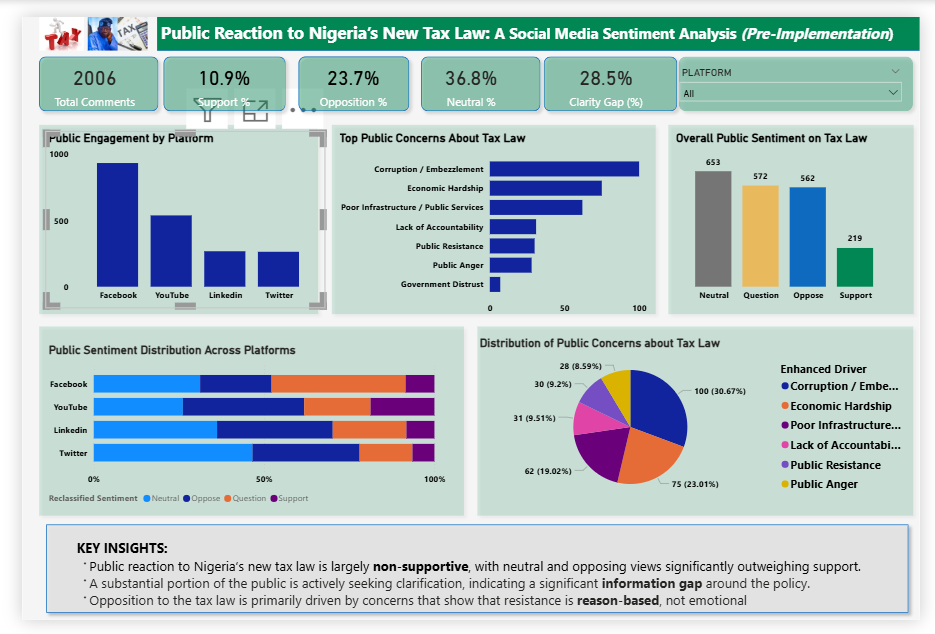

The page's visual inventory and layout, read from the dashboard file:
{"tool":"powerbi","page":{"name":"Page 1","canvas":[1280,720],"ordinal":0},"visuals":[{"type":"card","fields":{"Values":["Measures Table.Total Comments"]},"box":[224,0,160,96],"z":0},{"type":"card","fields":{"Values":["Measures Table.% Support"]},"box":[832,0,160,160],"z":1000},{"type":"card","fields":{"Values":["Measures Table.% Oppose"]},"box":[1008,0,160,160],"z":2000},{"type":"card","fields":{"Values":["Measures Table.% Neutral("]},"box":[400,0,160,128],"z":3000},{"type":"card","fields":{"Values":["Measures Table.% Question"]},"box":[560,0,160,160],"z":4000},{"type":"clusteredColumnChart","title":"Public Engagement by Platform","fields":{"Category":["Tax_data.PLATFORM"],"Y":["Measures Table.Total Comments"]},"box":[32,128,416,240],"z":5000},{"type":"hundredPercentStackedBarChart","title":"Public Sentiment Distribution Across Platforms","fields":{"Category":["Tax_data.PLATFORM"],"Y":["Measures Table.Total Comments"],"Series":["Tax_data.Reclassified Sentiment"]},"box":[432,128,368,304],"z":6000},{"type":"slicer","fields":{"Values":["Tax_data.PLATFORM"]},"box":[0,16,208,80],"z":7000},{"type":"donutChart","title":"Distribution of Public Concerns about Tax Law","fields":{"Category":["Tax_data.Reclassified Sentiment Driver"],"Y":["Measures Table.Total Comments"]},"box":[16,464,656,240],"z":8000},{"type":"clusteredColumnChart","title":"Overall Public Sentiment on Tax Law","fields":{"Y":["Measures Table.Total Comments"],"Category":["Tax_data.Reclassified Sentiment"]},"box":[832,160,368,272],"z":9000},{"type":"clusteredBarChart","title":"Top Public Concerns About Tax Law","fields":{"Category":["Tax_data.Enhanced Driver"],"Y":["Measures Table.Total Comments"]},"box":[720,464,480,240],"z":10000}]}

Visuals, with their boxes on the page's 1280x720 design canvas (x1, y1, x2, y2). These are canvas units, not pixel positions in the 935x634 screenshot, which may show the page scaled, cropped or inside an application window:
card - Measures Table.Total Comments: 224 0 384 96
card - Measures Table.% Support: 832 0 992 160
card - Measures Table.% Oppose: 1008 0 1168 160
card - Measures Table.% Neutral(: 400 0 560 128
card - Measures Table.% Question: 560 0 720 160
"Public Engagement by Platform" clusteredColumnChart: 32 128 448 368
"Public Sentiment Distribution Across Platforms" hundredPercentStackedBarChart: 432 128 800 432
slicer - Tax_data.PLATFORM: 0 16 208 96
"Distribution of Public Concerns about Tax Law" donutChart: 16 464 672 704
"Overall Public Sentiment on Tax Law" clusteredColumnChart: 832 160 1200 432
"Top Public Concerns About Tax Law" clusteredBarChart: 720 464 1200 704
